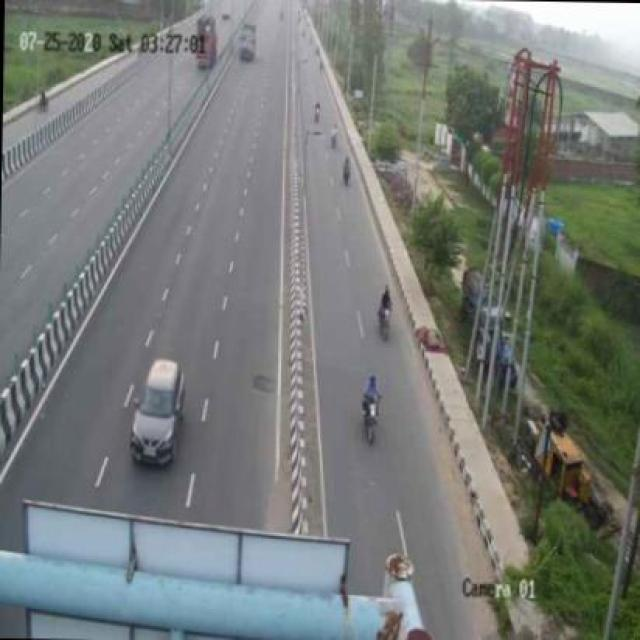car: (130, 348, 188, 463)
